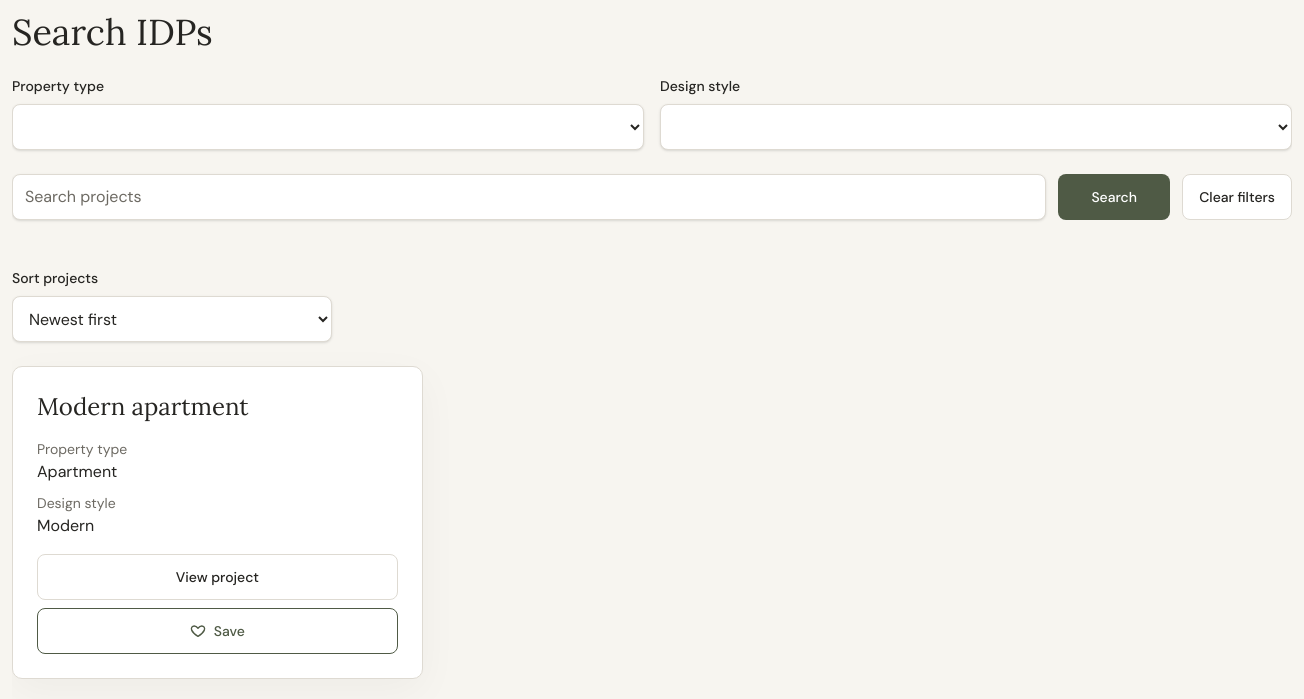
empty search shows the BCE prompt while initial ongoing browsing still works
Check: the heading "Modern apartment" is shown, box x1=37 y1=391 x2=249 y2=422
Click the button "Search" at (1114, 197), box x1=1058 y1=174 x2=1170 y2=220
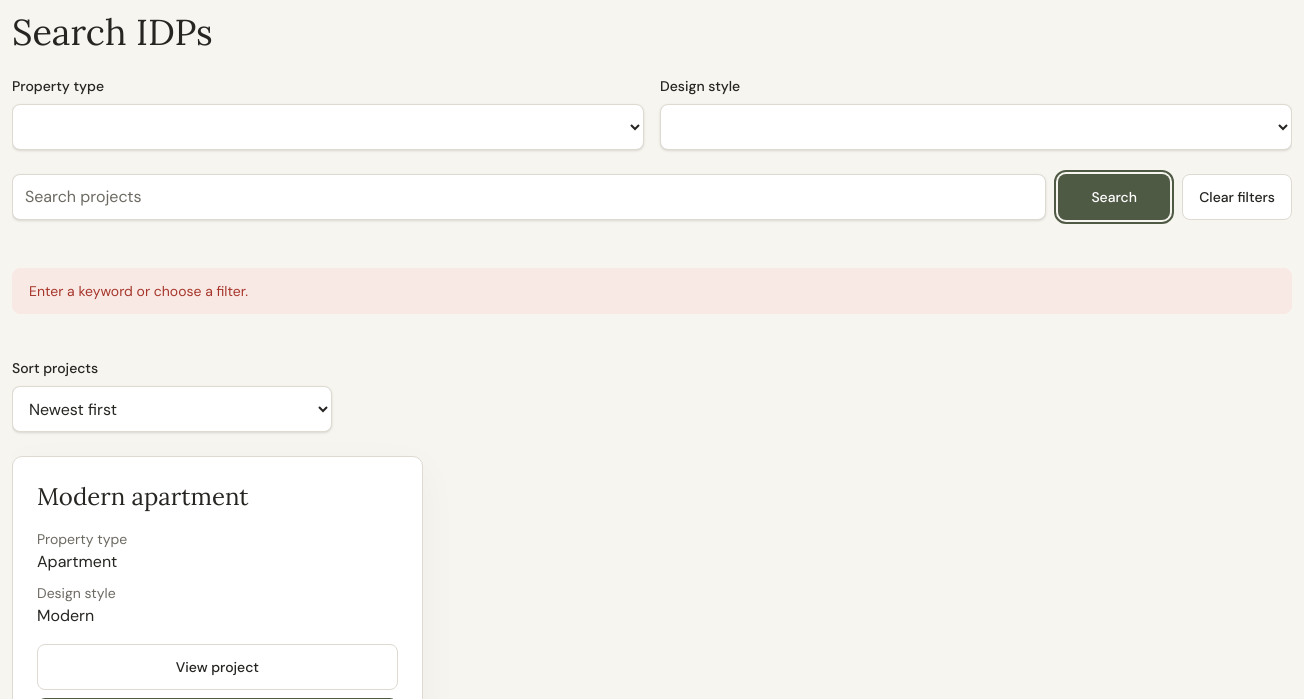
Check: the message reads "Enter a keyword or choose a filter.", box x1=29 y1=282 x2=248 y2=300
